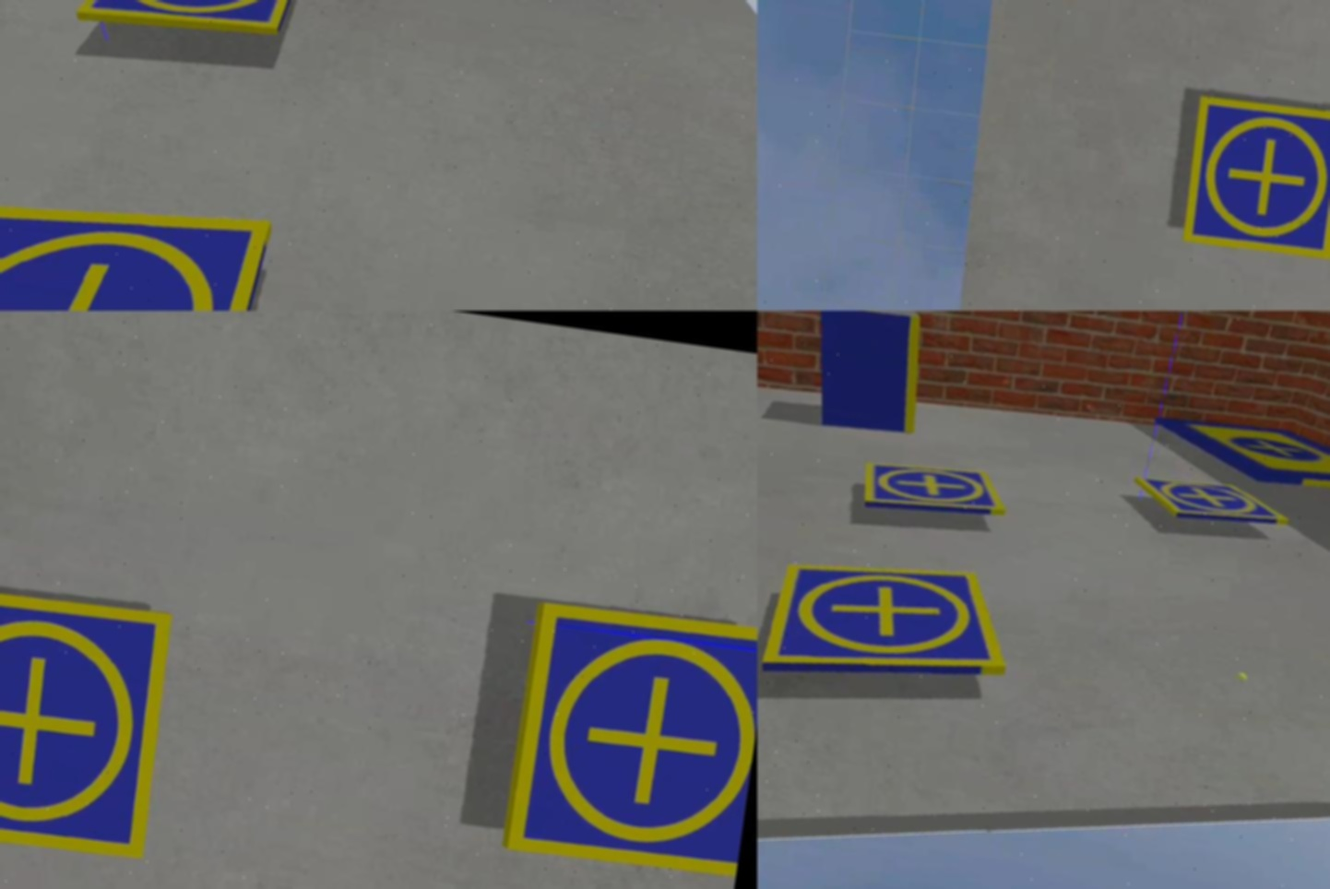large_base: (1147, 409, 1330, 505)
small_base: (503, 598, 757, 878), (1, 575, 180, 868), (762, 549, 1017, 709), (1, 175, 281, 312), (1180, 90, 1330, 264), (860, 455, 1014, 525), (1125, 471, 1290, 536), (79, 1, 306, 44)
